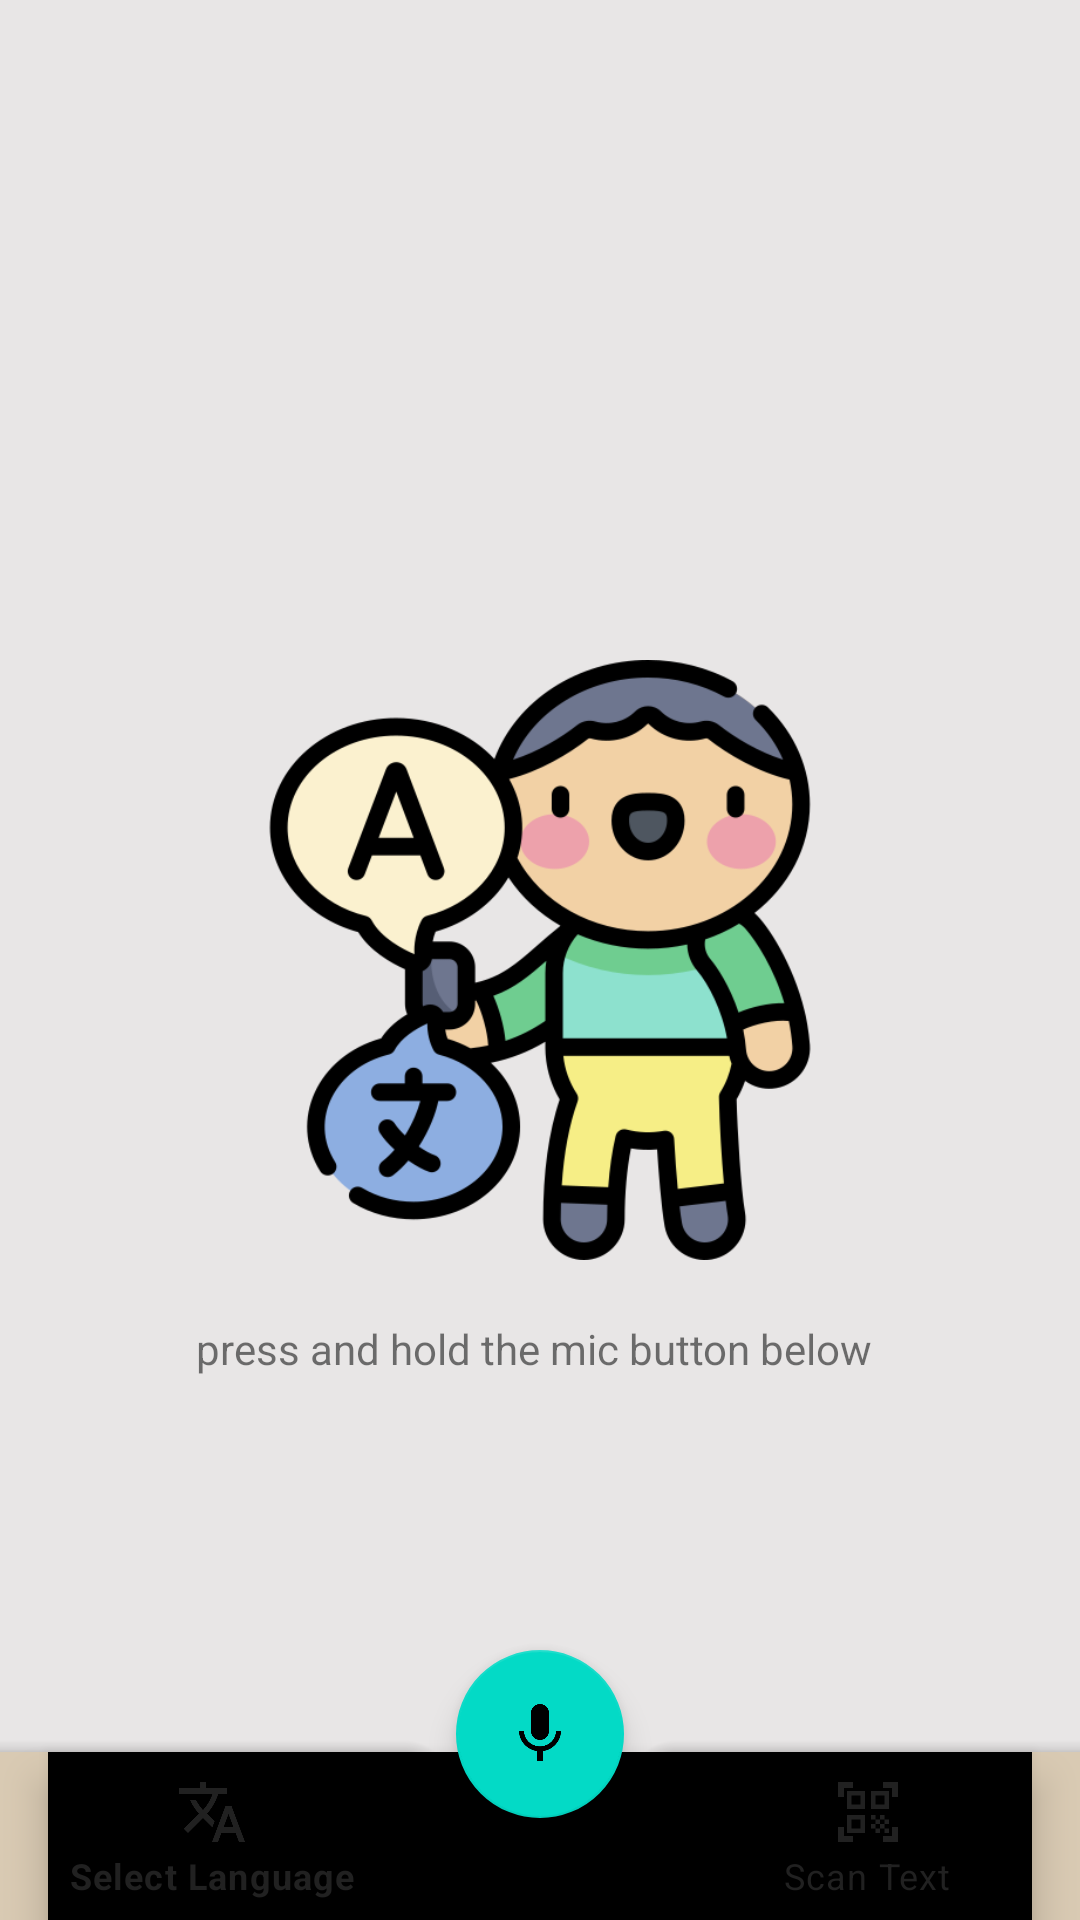

Where to tap for icons on this 1080×1920 app screen, as point (x, y):
mic: point (540, 1752)
